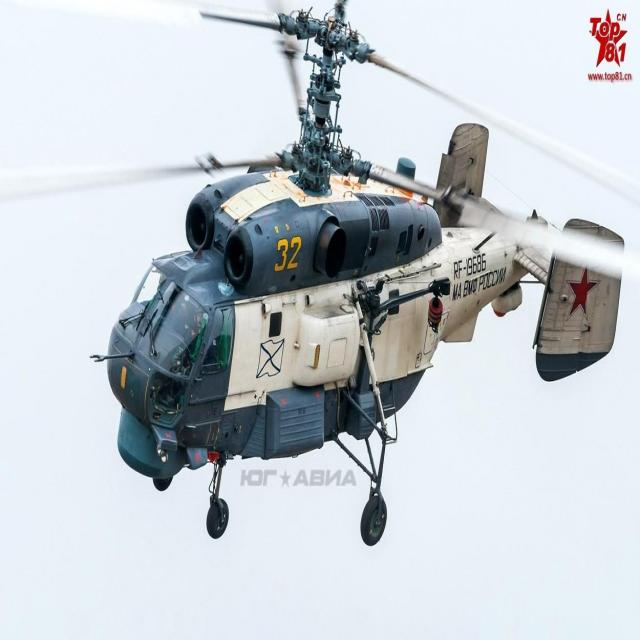MIL_HELO: (9, 0, 640, 549)
